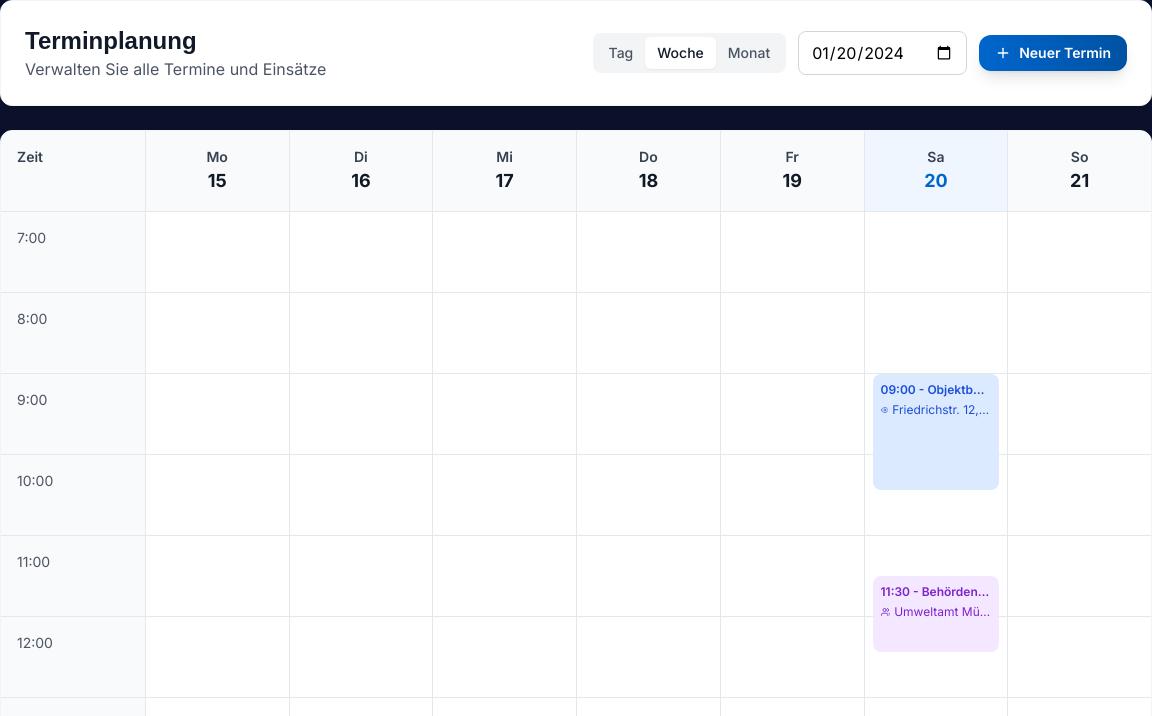
Scenario: AppointmentScheduler - Revenue Critical Tests › Appointment Management › displays appointment details correctly
Switch to day view for detailed appointment view
Click the button "Tag". click: (621, 53)
box: [596, 37, 645, 69]
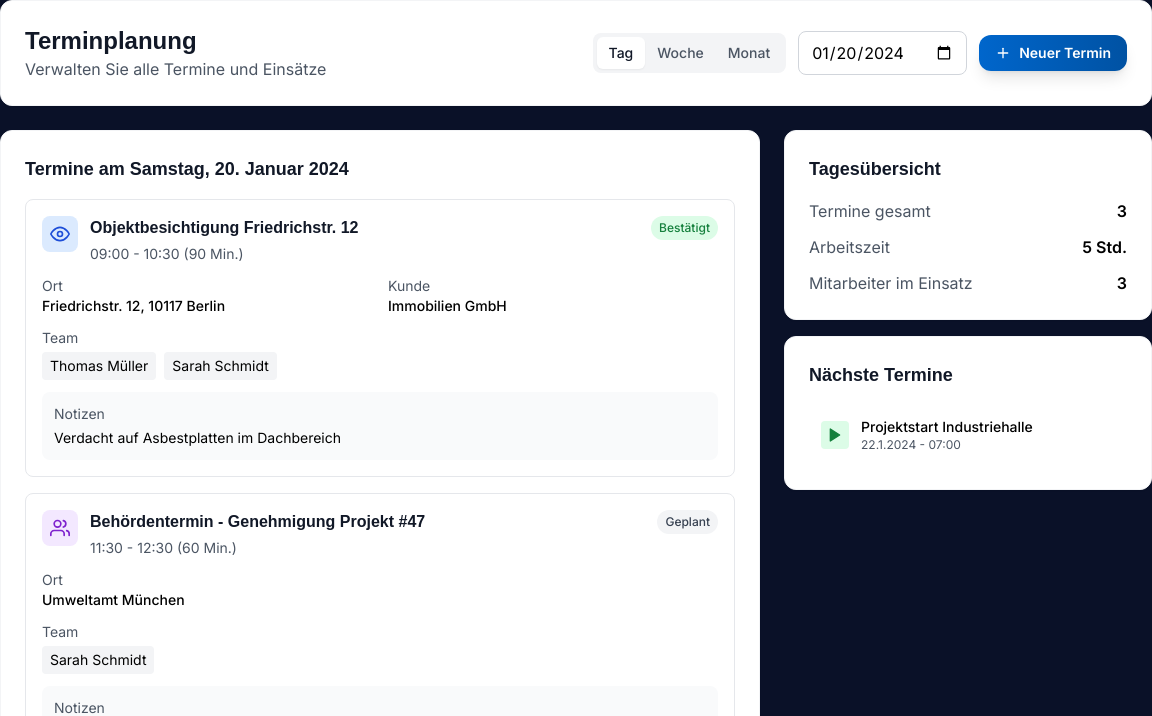
Expected: the heading "Objektbesichtigung Friedrichstr. 12" is shown, [90, 216, 358, 240]
Result: the text "09:00 - 10:30 (90 Min.)" is shown at [90, 245, 244, 262]
Result: the text "Immobilien GmbH" is shown at [388, 297, 507, 314]
